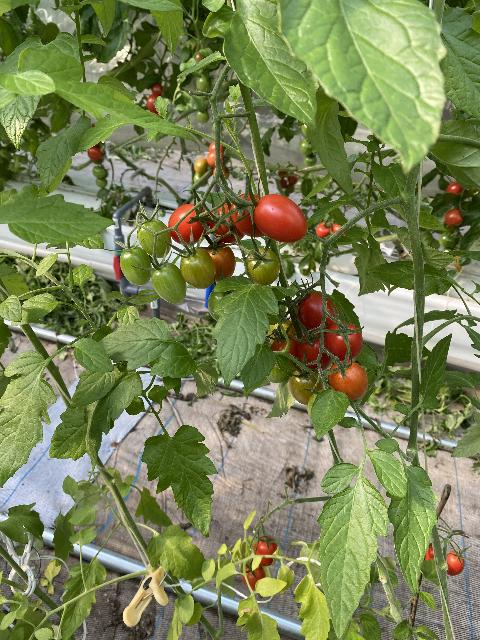l_fully_ripened: (252, 193, 306, 243), (168, 203, 210, 246), (323, 319, 363, 361), (300, 293, 339, 334), (230, 194, 266, 238), (297, 332, 335, 372), (209, 204, 246, 243), (271, 334, 303, 371), (253, 535, 280, 567), (242, 560, 266, 592)
l_green: (151, 263, 187, 304), (137, 218, 172, 259), (119, 247, 153, 287), (246, 246, 280, 286), (207, 289, 236, 322), (267, 365, 293, 384)
l_half_ripened: (327, 360, 370, 401), (180, 245, 216, 290), (288, 367, 324, 405), (206, 241, 236, 282), (269, 317, 297, 345)
